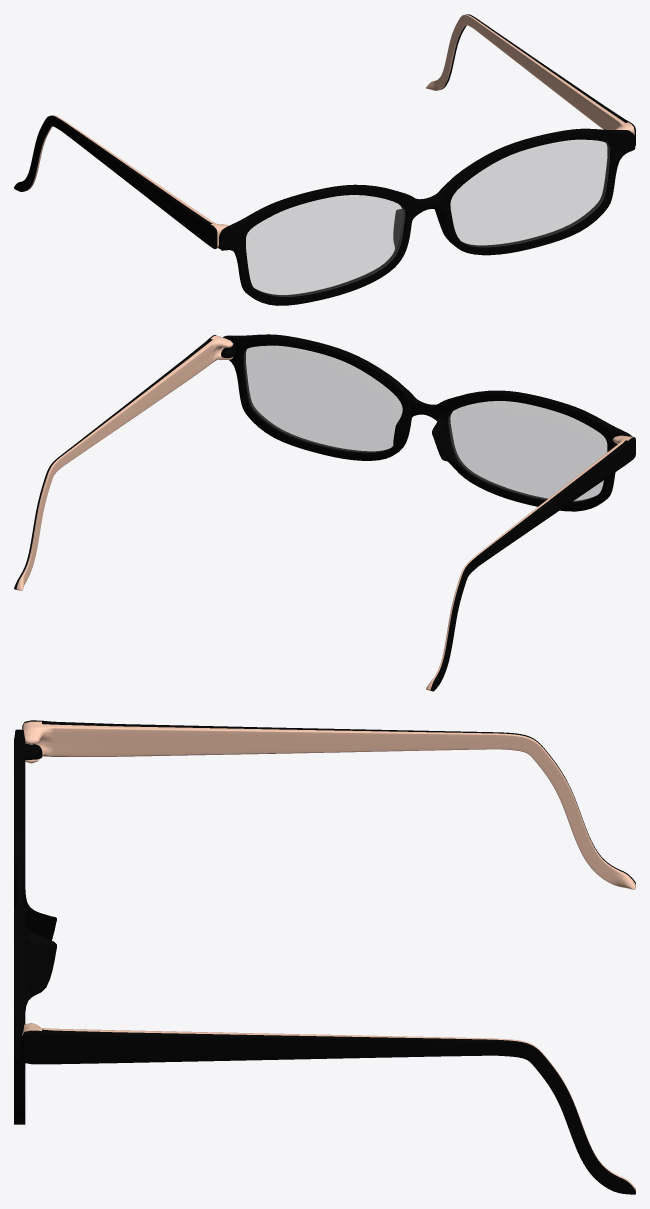
Rendered from 5d16b447-aa44-4074-8ed4-c5a45efc080e.glb.
The picture shows the model from 3 angles, top to bottom: view 1: azimuth 30°, elevation 25°; view 2: azimuth 150°, elevation 25°; view 3: azimuth 270°, elevation 25°; orthographic projection. The views are drawn at different scales.
Parts seen in each view (by area): view 1: curve2; view 2: curve2; view 3: curve2.
Boxes of the visible parts, box(x1,y1,x2,y2) form: curve2: box(14, 14, 635, 305); curve2: box(14, 334, 635, 691); curve2: box(14, 720, 635, 1194).
Size of the model in its own units: 82.89 by 22.86 by 69.99.
